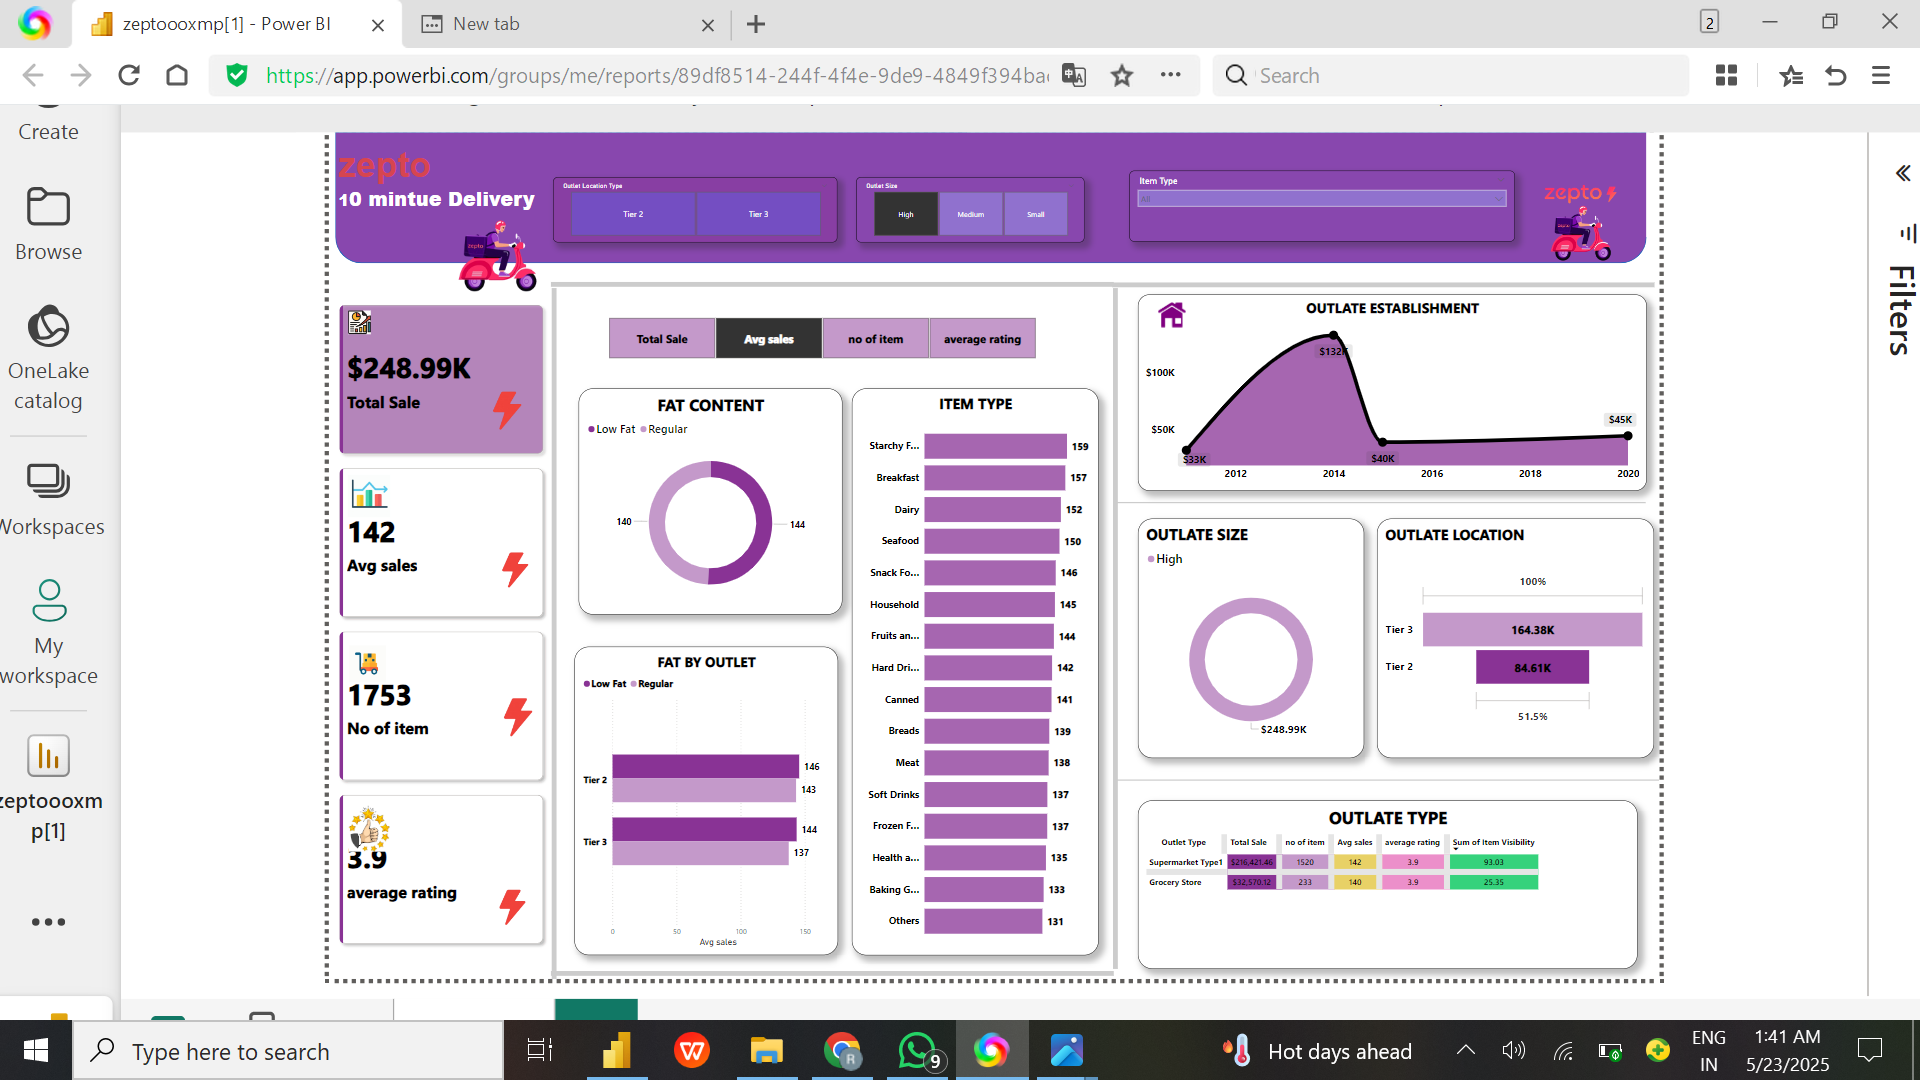

Layout of this report page (visuals, bound fields, positions):
{"tool":"powerbi","page":{"name":"Page 1","canvas":[2200,1400],"ordinal":0},"visuals":[{"type":"shape","box":[9.3,0,2168.1,216.5],"z":0},{"type":"slicer","fields":{"Values":["BlinkIT Grocery Data.Outlet Location Type"]},"box":[371.1,74.2,470.1,108.2],"z":2000},{"type":"slicer","fields":{"Values":["BlinkIT Grocery Data.Outlet Size"]},"box":[872.2,74.2,377.3,108.2],"z":3000},{"type":"slicer","fields":{"Values":["BlinkIT Grocery Data.Item Type"]},"box":[1323.7,64.9,637.1,117.5],"z":4000},{"type":"cardVisual","fields":{"Data":["BlinkIT Grocery Data.Total Sale","BlinkIT Grocery Data.Avg sales","BlinkIT Grocery Data.no of item","BlinkIT Grocery Data.average rating"]},"box":[0,269.1,371.1,1091.8],"z":5000},{"type":"lineChart","title":"OUTLATE ESTABLISHMENT","fields":{"Category":["BlinkIT Grocery Data.Outlet Establishment Year"],"Y":["BlinkIT Grocery Data.Total Sale"]},"box":[1336.1,269.1,841.3,324.7],"z":6000},{"type":"funnel","title":"OUTLATE LOCATION","fields":{"Category":["BlinkIT Grocery Data.Outlet Location Type"],"Y":["Sum(BlinkIT Grocery Data.Sales)"]},"box":[1732,640.2,457.7,395.9],"z":7000},{"type":"slicer","fields":{"Values":["Metrices.Metrices"]},"box":[436.1,300,754.7,80.4],"z":8000},{"type":"donutChart","title":"FAT CONTENT","fields":{"Y":["BlinkIT Grocery Data.Avg sales"],"Category":["BlinkIT Grocery Data.Item Fat Content"]},"box":[411.3,423.7,436.1,374.2],"z":9000},{"type":"clusteredBarChart","title":"FAT BY OUTLET","fields":{"Y":["BlinkIT Grocery Data.Avg sales"],"Category":["BlinkIT Grocery Data.Outlet Location Type"],"Series":["BlinkIT Grocery Data.Item Fat Content"]},"box":[405.2,850.5,436.1,510.3],"z":10000},{"type":"clusteredBarChart","title":"ITEM TYPE","fields":{"Y":["BlinkIT Grocery Data.Avg sales"],"Category":["BlinkIT Grocery Data.Item Type"]},"box":[866,423.7,408.3,937.1],"z":11000},{"type":"donutChart","title":"OUTLATE SIZE","fields":{"Category":["BlinkIT Grocery Data.Outlet Size"],"Y":["BlinkIT Grocery Data.Total Sale"]},"box":[1336.1,640.2,374.2,395.9],"z":12000},{"type":"pivotTable","title":"OUTLATE TYPE","fields":{"Rows":["BlinkIT Grocery Data.Outlet Type"],"Values":["BlinkIT Grocery Data.Total Sale","BlinkIT Grocery Data.no of item","BlinkIT Grocery Data.Avg sales","BlinkIT Grocery Data.average rating","Sum(BlinkIT Grocery Data.Item Visibility)"]},"box":[1351.6,1082.5,825.8,278.4],"z":13000},{"type":"shape","box":[1295.9,182.5,893.8,145.4],"z":20003},{"type":"shape","box":[1135.1,256.7,327.8,1125.8],"z":20004},{"type":"image","box":[157.7,21.6,238.1,318.6],"z":20006},{"type":"textbox","box":[9.3,12.4,426.8,191.8],"z":20007},{"type":"image","box":[1936.1,74.2,262.9,148.5],"z":20008},{"type":"shape","box":[1299,460.8,878.4,300],"z":20009},{"type":"shape","box":[1299,921.7,900,300],"z":20010},{"type":"shape","box":[222.7,256.7,300,1144.4],"z":20011},{"type":"shape","box":[368,182.5,930.9,136.1],"z":20012},{"type":"image","box":[9.3,290.7,80.4,49.5],"z":20013},{"type":"image","box":[9.3,559.8,111.3,80.4],"z":20014},{"type":"image","box":[27.8,816.5,71.1,126.8],"z":20015},{"type":"image","box":[15.5,1107.2,105.2,86.6],"z":20016},{"type":"image","box":[247.4,649.5,120.6,148.5],"z":20017},{"type":"image","box":[247.4,893.8,129.9,148.5],"z":20018},{"type":"image","box":[213.4,1221.7,182.5,120.6],"z":20019},{"type":"image","box":[185.6,395.9,213.4,129.9],"z":20020},{"type":"image","box":[1367,266,55.7,74.2],"z":20021},{"type":"shape","box":[368,1379.4,930.9,21.6],"z":20022}]}

Visuals, with their boxes on the page's 2200x1400 design canvas (x1, y1, x2, y2). These are canvas units, not pixel positions in the 1920x1080 screenshot, which may show the page scaled, cropped or inside an application window:
shape: rect(9, 0, 2177, 216)
slicer - BlinkIT Grocery Data.Outlet Location Type: rect(371, 74, 841, 182)
slicer - BlinkIT Grocery Data.Outlet Size: rect(872, 74, 1250, 182)
slicer - BlinkIT Grocery Data.Item Type: rect(1324, 65, 1961, 182)
cardVisual - BlinkIT Grocery Data.Total Sale x BlinkIT Grocery Data.Avg sales: rect(0, 269, 371, 1361)
"OUTLATE ESTABLISHMENT" lineChart: rect(1336, 269, 2177, 594)
"OUTLATE LOCATION" funnel: rect(1732, 640, 2190, 1036)
slicer - Metrices.Metrices: rect(436, 300, 1191, 380)
"FAT CONTENT" donutChart: rect(411, 424, 847, 798)
"FAT BY OUTLET" clusteredBarChart: rect(405, 850, 841, 1361)
"ITEM TYPE" clusteredBarChart: rect(866, 424, 1274, 1361)
"OUTLATE SIZE" donutChart: rect(1336, 640, 1710, 1036)
"OUTLATE TYPE" pivotTable: rect(1352, 1082, 2177, 1361)
shape: rect(1296, 182, 2190, 328)
shape: rect(1135, 257, 1463, 1382)
image: rect(158, 22, 396, 340)
textbox: rect(9, 12, 436, 204)
image: rect(1936, 74, 2199, 223)
shape: rect(1299, 461, 2177, 761)
shape: rect(1299, 922, 2199, 1222)
shape: rect(223, 257, 523, 1401)
shape: rect(368, 182, 1299, 319)
image: rect(9, 291, 90, 340)
image: rect(9, 560, 121, 640)
image: rect(28, 816, 99, 943)
image: rect(16, 1107, 121, 1194)
image: rect(247, 650, 368, 798)
image: rect(247, 894, 377, 1042)
image: rect(213, 1222, 396, 1342)
image: rect(186, 396, 399, 526)
image: rect(1367, 266, 1423, 340)
shape: rect(368, 1379, 1299, 1401)
